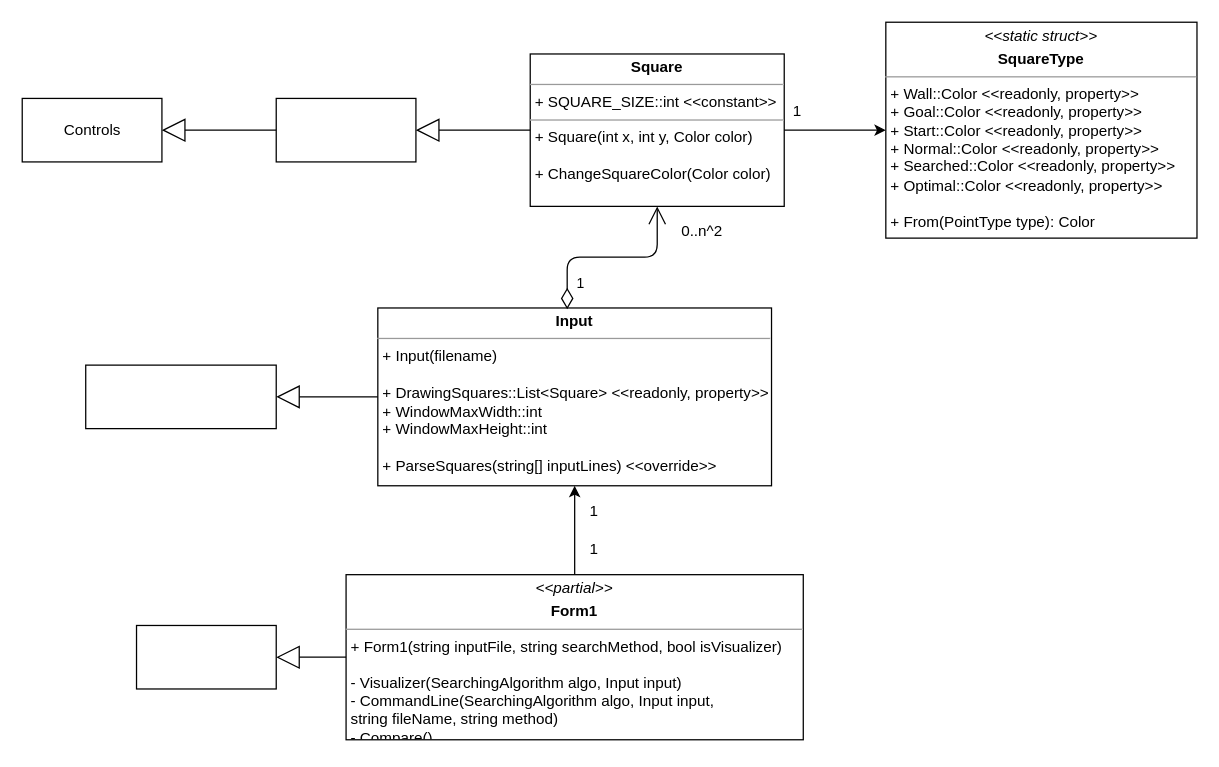
This 1219x767 diagram has some shape labels left out. Here are the shapes that lost their labels. From the top down, the box of each, then its label:
(275, 97, 416, 162): Button
(84, 364, 276, 429): Algorithms.IO.Input
(135, 624, 276, 689): Form
